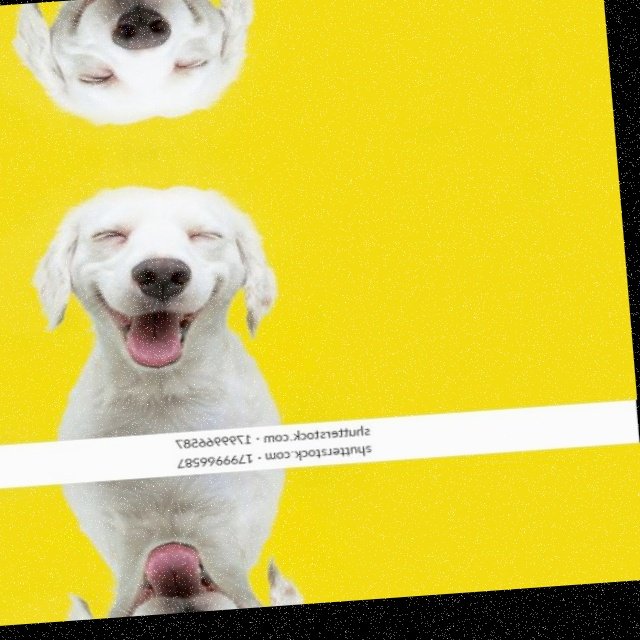dog: (19, 152, 300, 377), (5, 0, 282, 154), (50, 530, 321, 622)
